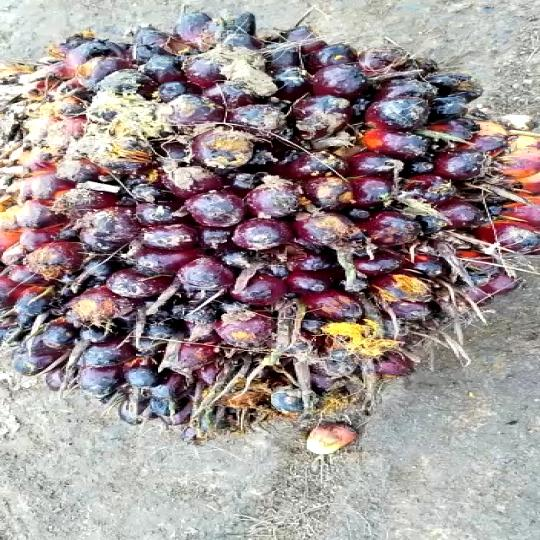kurang masak: (0, 13, 530, 418)
